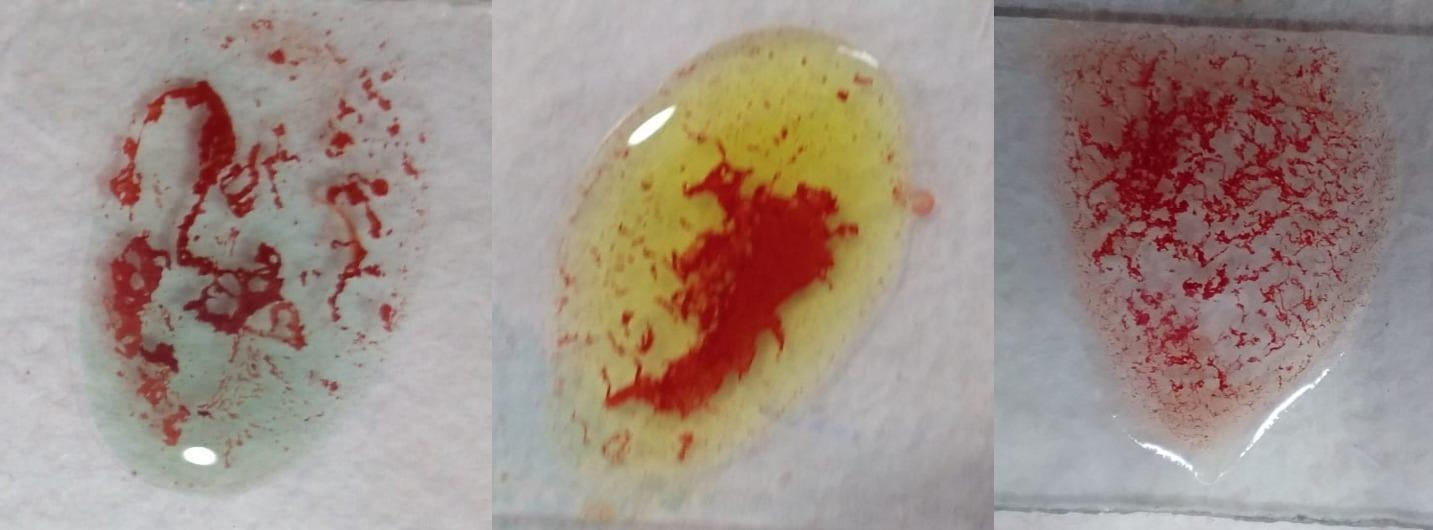A: (90, 26, 406, 495)
B: (555, 32, 903, 464)
D: (1052, 32, 1387, 447)
